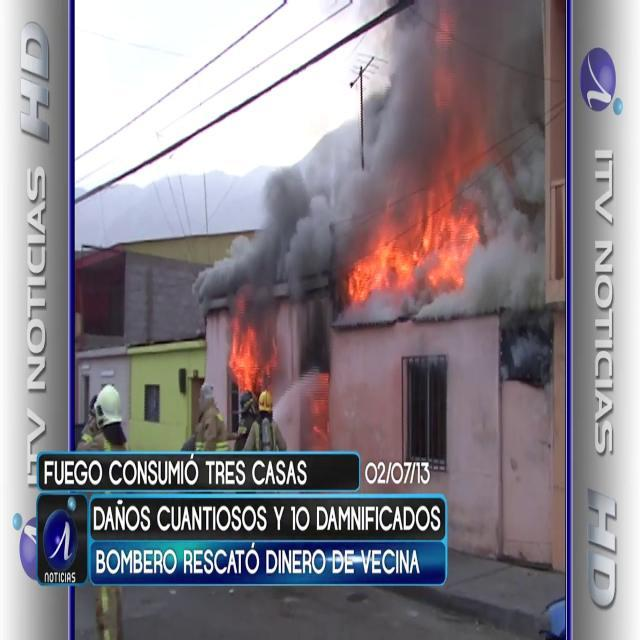Fire: (346, 176, 484, 302), (224, 306, 274, 404)
Smoke: (218, 0, 546, 294)
